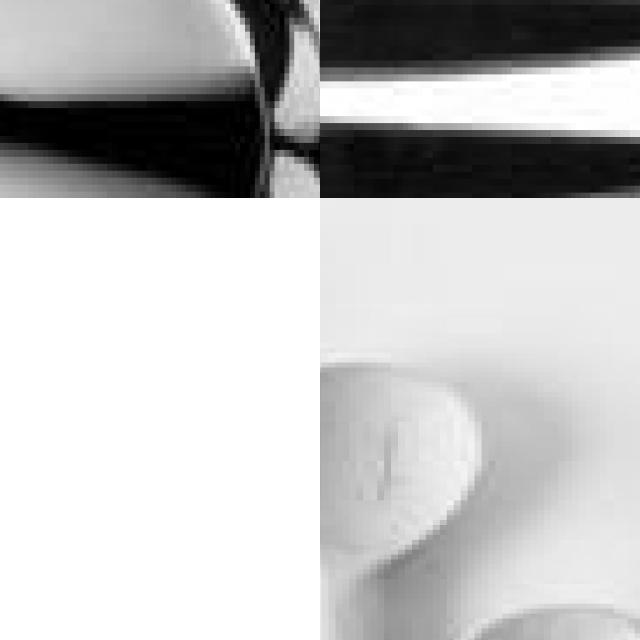forks: (320, 0, 640, 198)
spoons: (0, 0, 320, 198)
